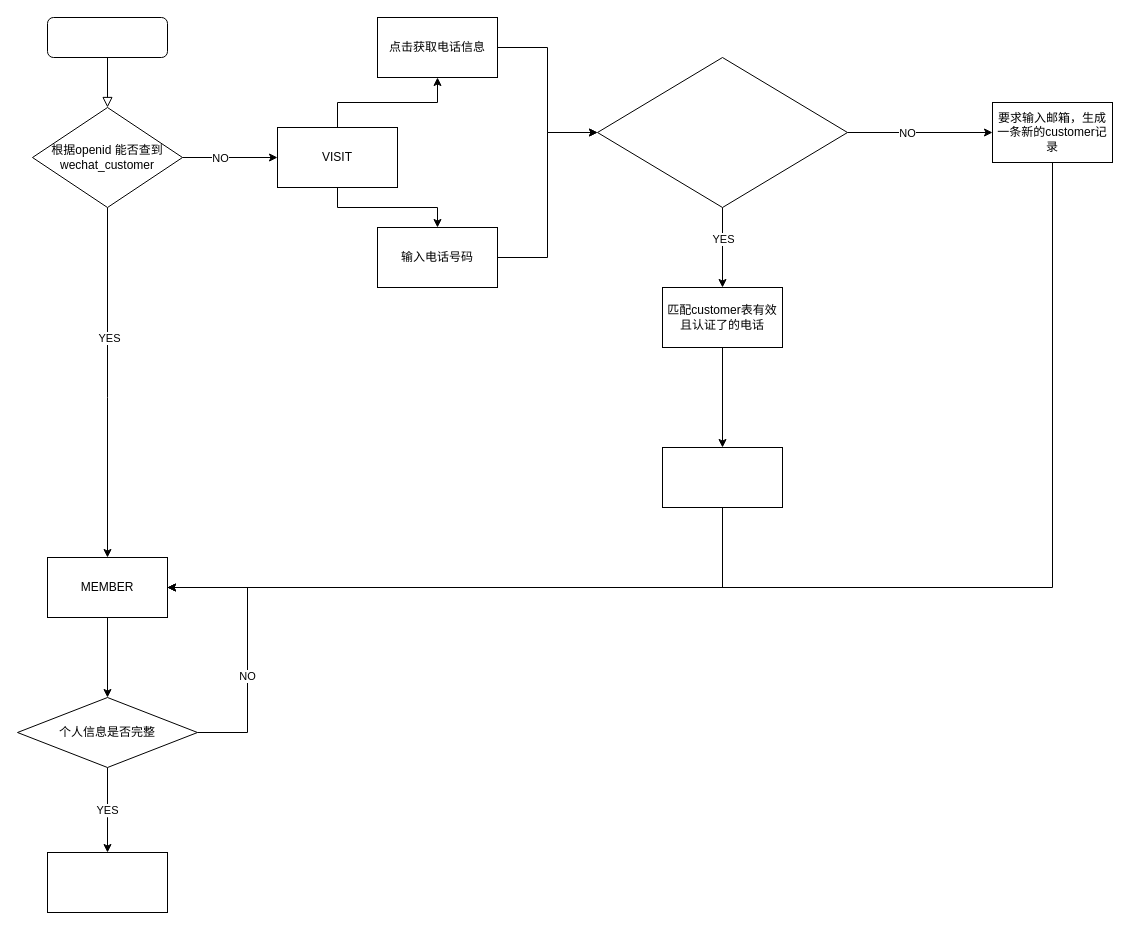
Image size: 1130x930. Some labels were removed from this diagram. The box of each missing label's shape, as (x1, y1, x2, y2) in pixels:
FULL_MEMBER: (46, 852, 168, 912)
小程序启动: (46, 16, 168, 58)
找到customer记录则进行关联: (662, 446, 782, 508)
是否能匹配customer表有效且认证了的电话: (596, 56, 848, 208)
